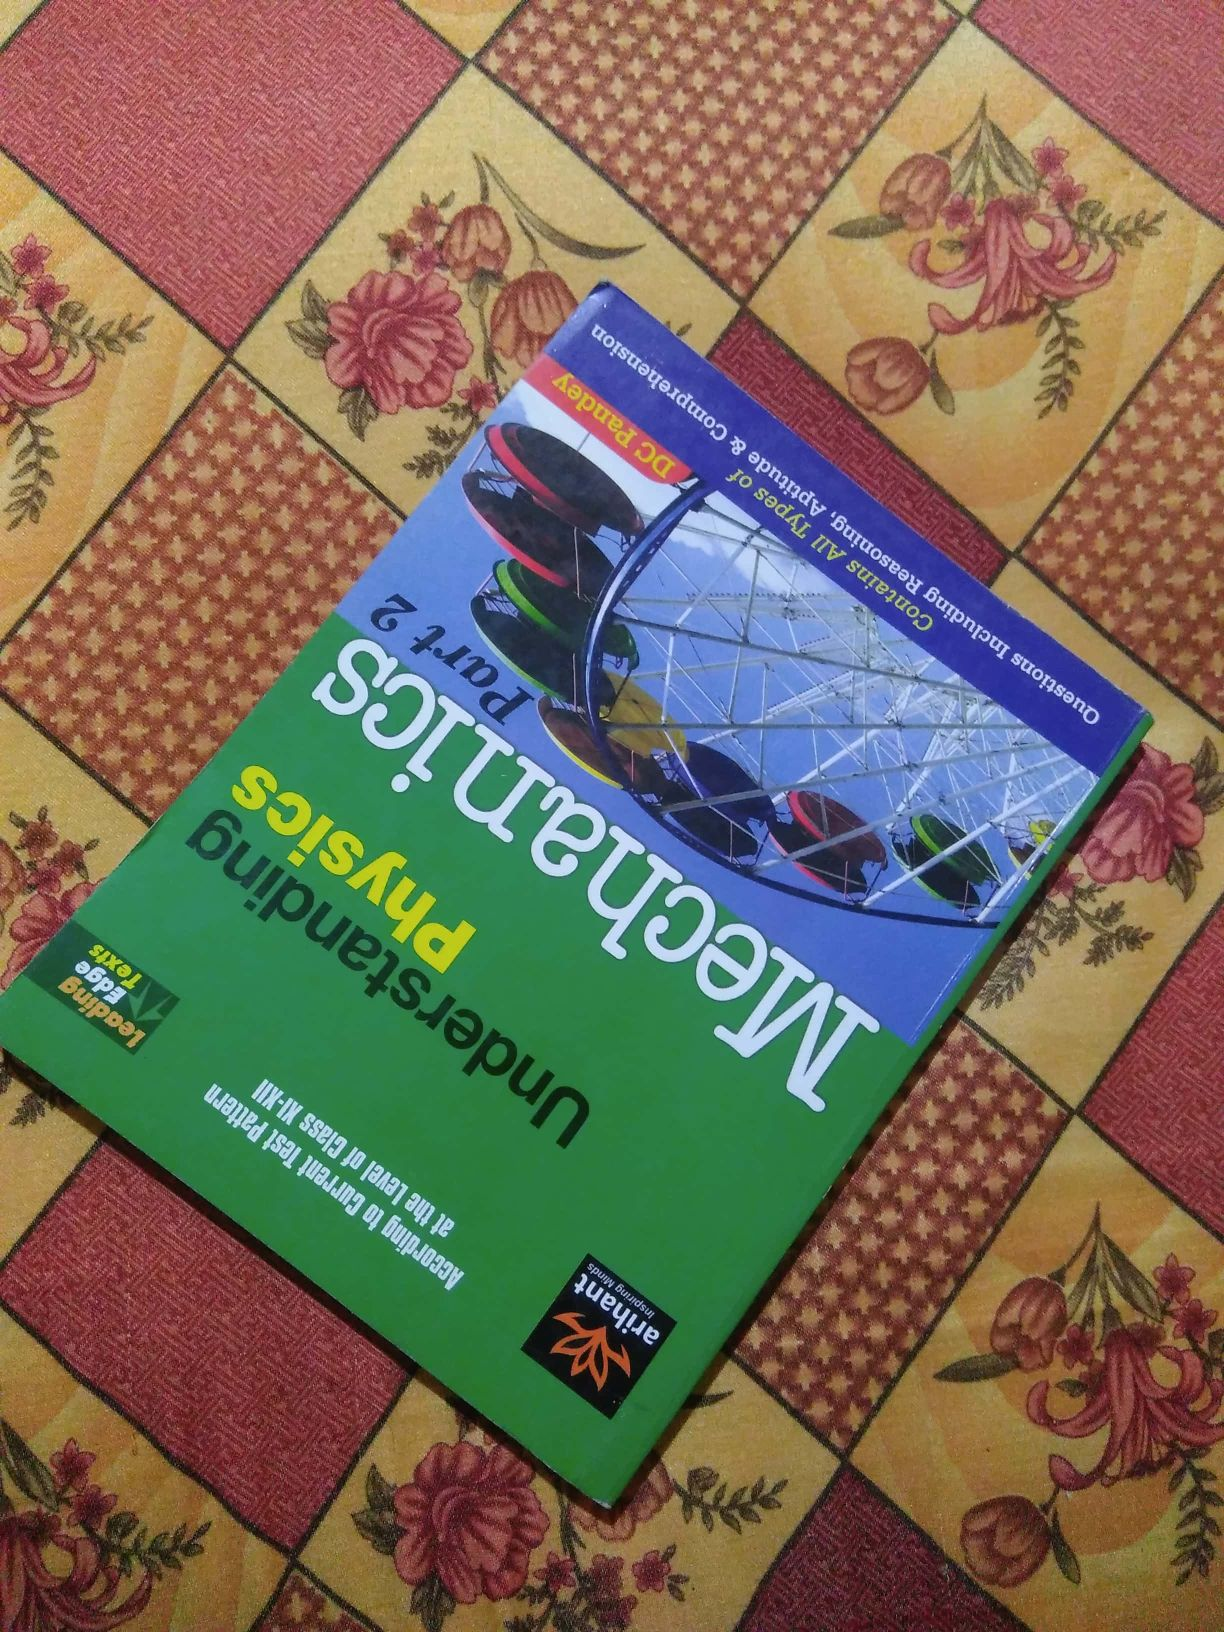mechanics: (80, 332, 1164, 1492)
